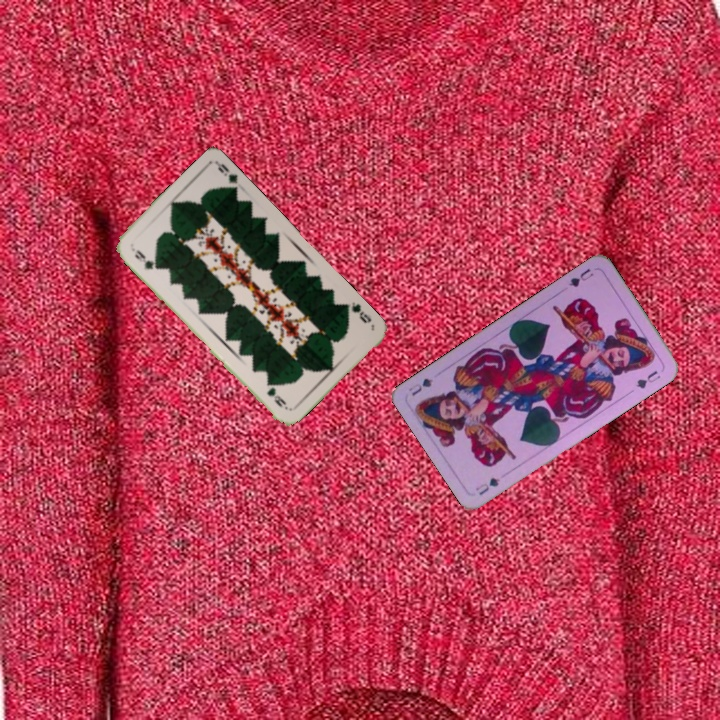G9: (127, 244, 161, 272), (348, 298, 374, 326)
GU: (564, 264, 596, 290), (471, 473, 502, 498)
